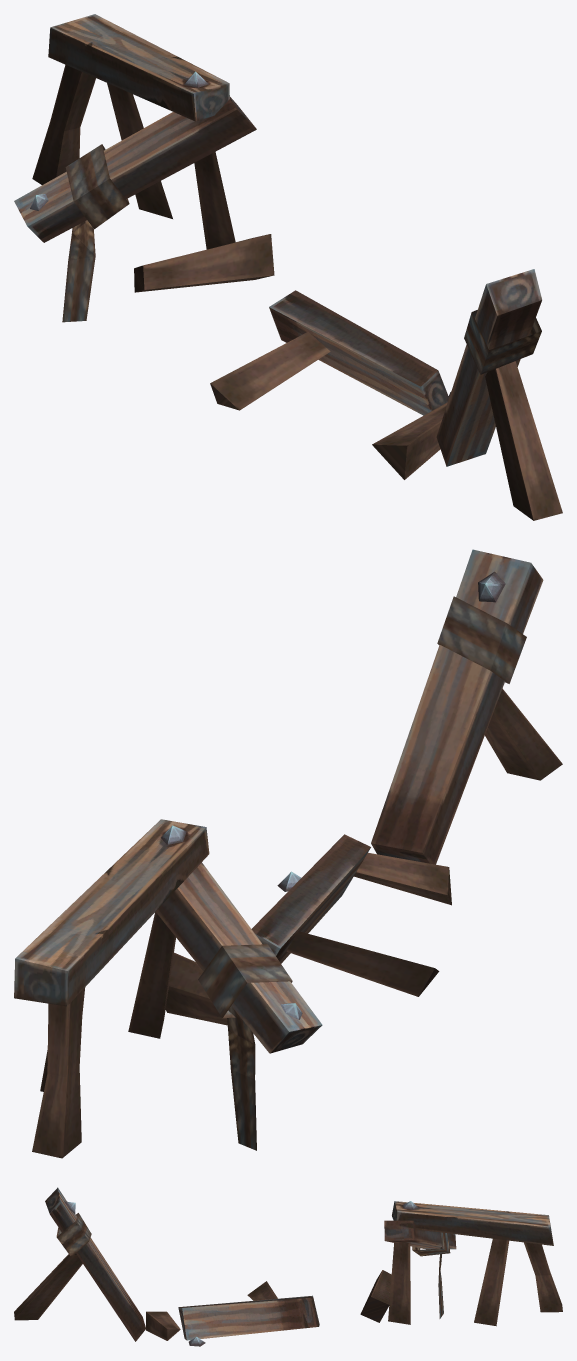
Rendered from mine_railing04.fbx.
The picture shows the model from 3 angles, top to bottom: view 1: azimuth 30°, elevation 25°; view 2: azimuth 150°, elevation 25°; view 3: azimuth 270°, elevation 25°; orthographic projection. The views are drawn at different scales.
Visible parts, largest first — view 1: obj0.134; view 2: obj0.134; view 3: obj0.134.
Part boxes in pixels (x1,y1,x2,y2): obj0.134: [14, 14, 562, 520]; obj0.134: [14, 549, 562, 1158]; obj0.134: [14, 1187, 562, 1346].
Size of the model in its own units: 2.4 by 2.52 by 8.24.
